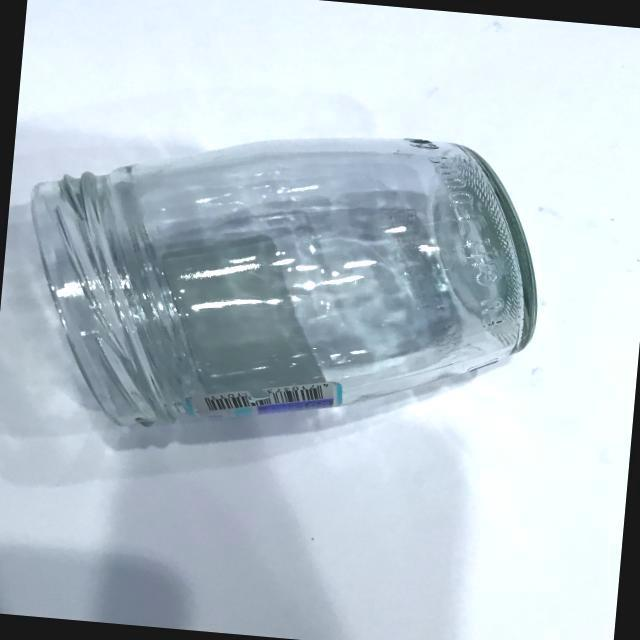glass: (7, 101, 562, 468)
